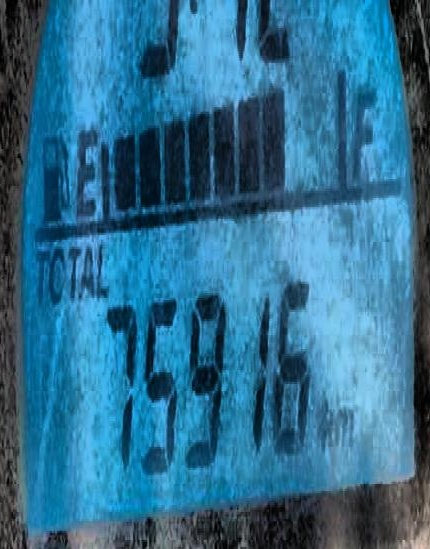1: (246, 284, 271, 461)
5: (141, 293, 177, 481)
6: (273, 269, 313, 465)
7: (102, 295, 136, 484)
9: (183, 290, 227, 472)
X: (349, 79, 380, 179), (73, 125, 98, 218), (333, 402, 355, 451), (49, 239, 65, 302), (32, 242, 49, 300), (65, 239, 80, 300), (80, 240, 94, 298), (319, 398, 334, 449), (95, 240, 108, 298)
